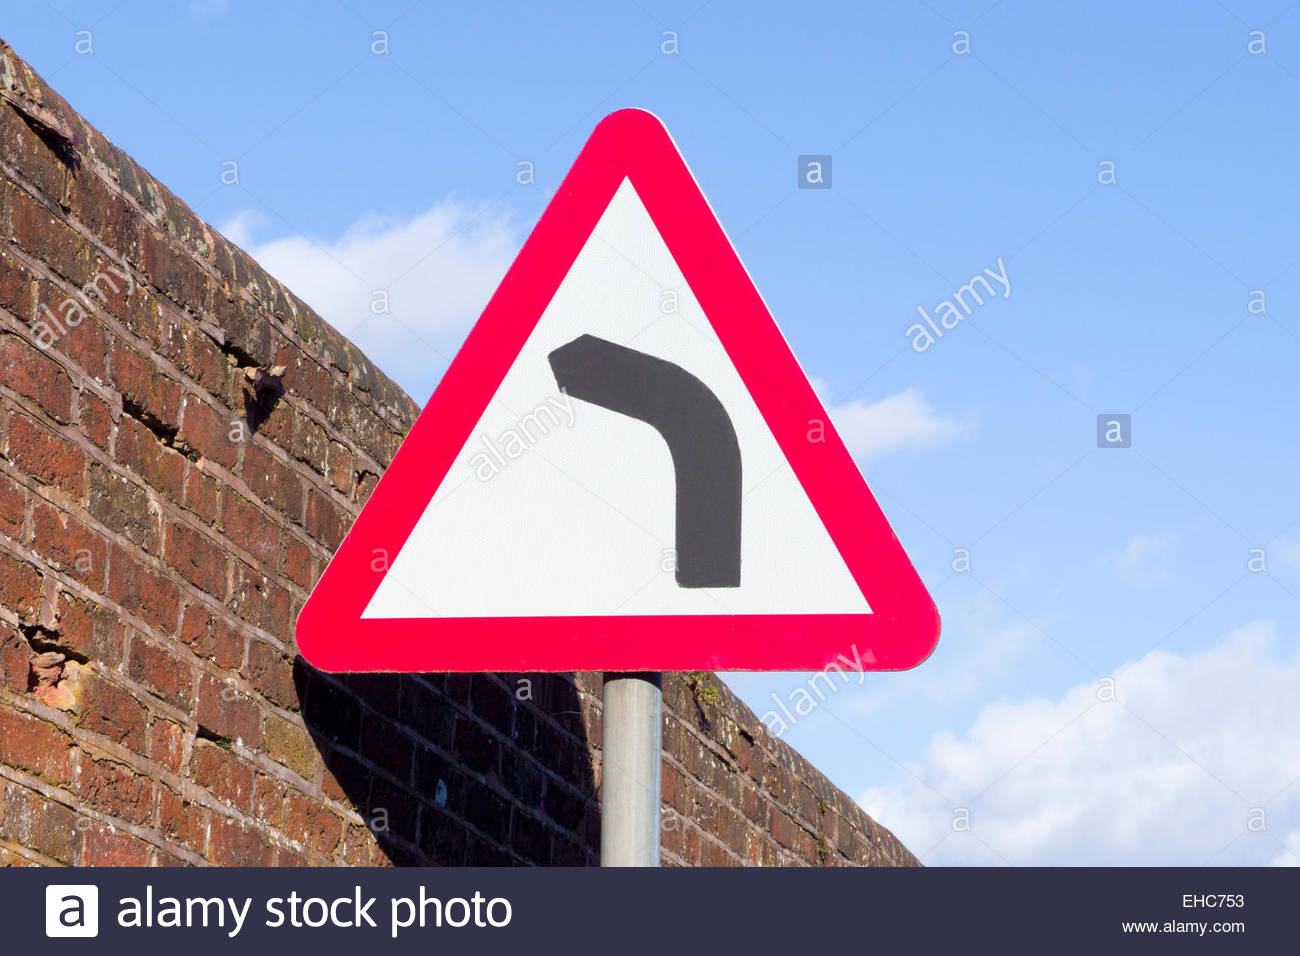Bend_to_left: (281, 108, 947, 684)
